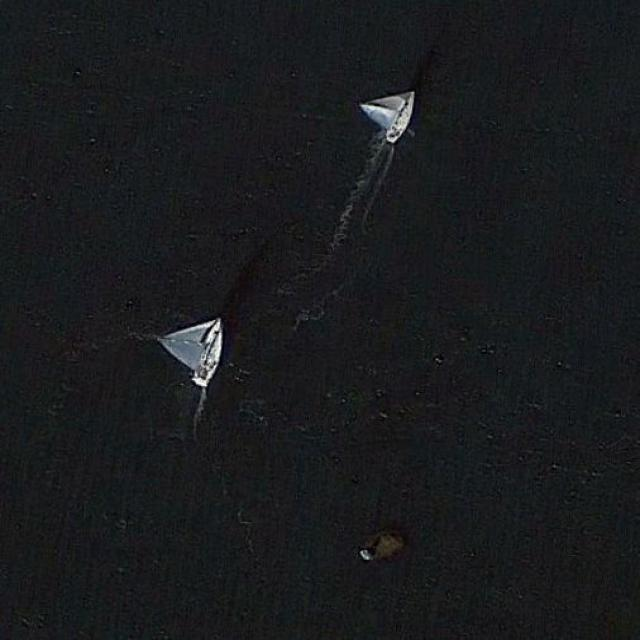ship: (156, 310, 226, 388), (358, 88, 416, 146)
